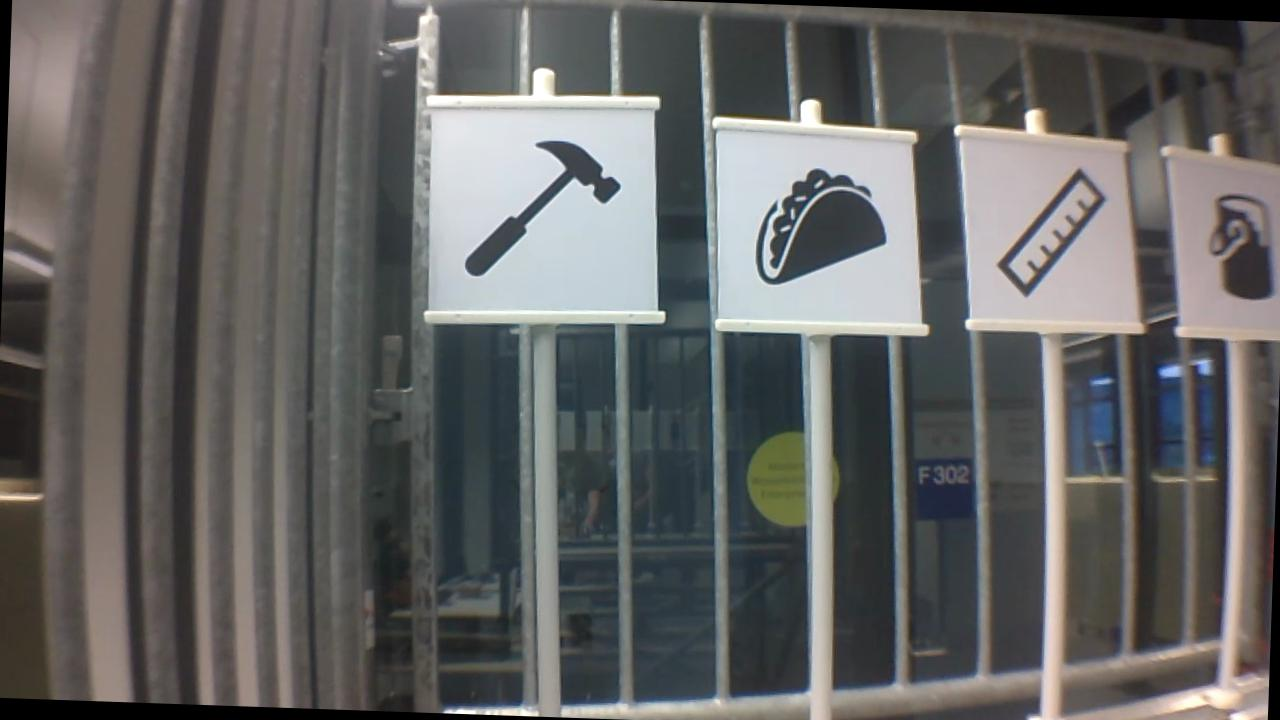bucket: (1199, 188, 1280, 306)
hammer: (457, 130, 623, 287)
ruler: (989, 160, 1113, 307)
taco: (748, 160, 893, 293)
